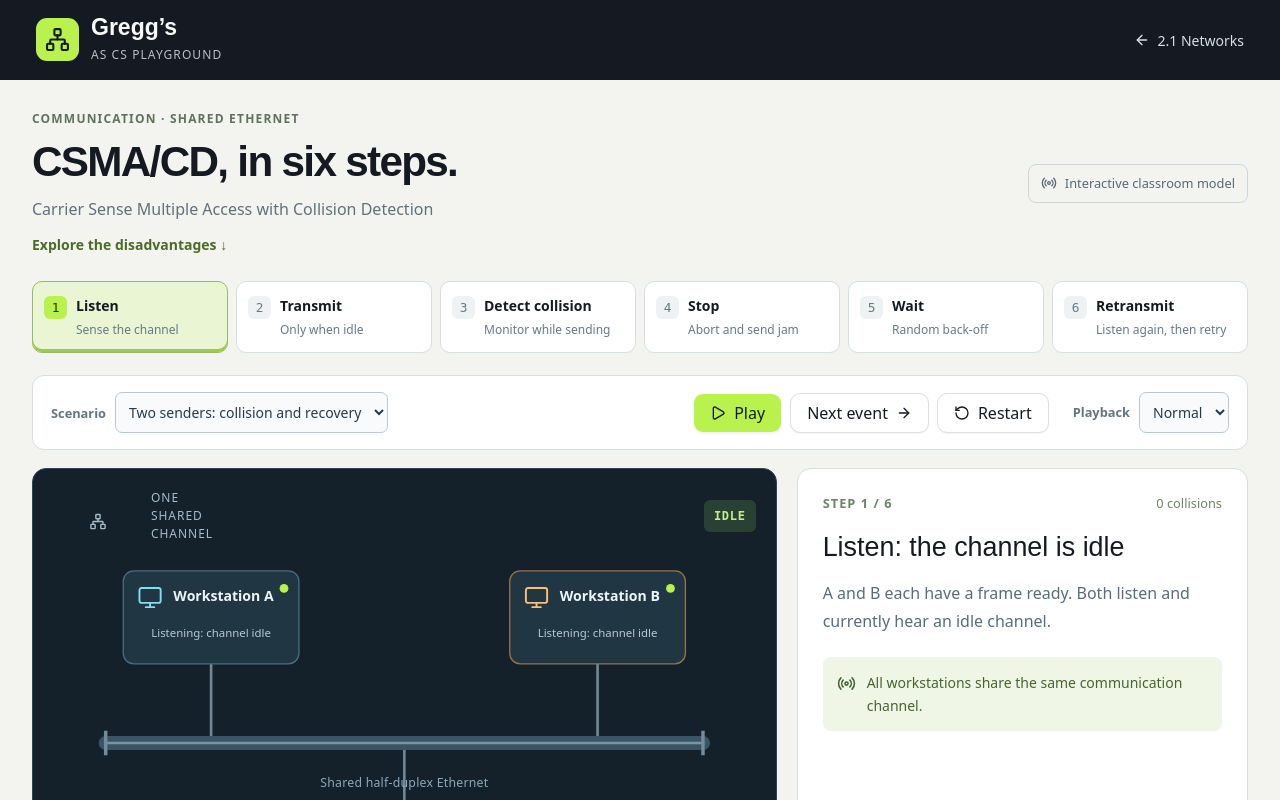
Test: English CSMA/CD classroom demo › blocks transmission while busy and supports the no-collision comparison
Select "Busy channel: listen and wait" in the dropdown labelled "Scenario": (252, 413) [115,392,388,433]
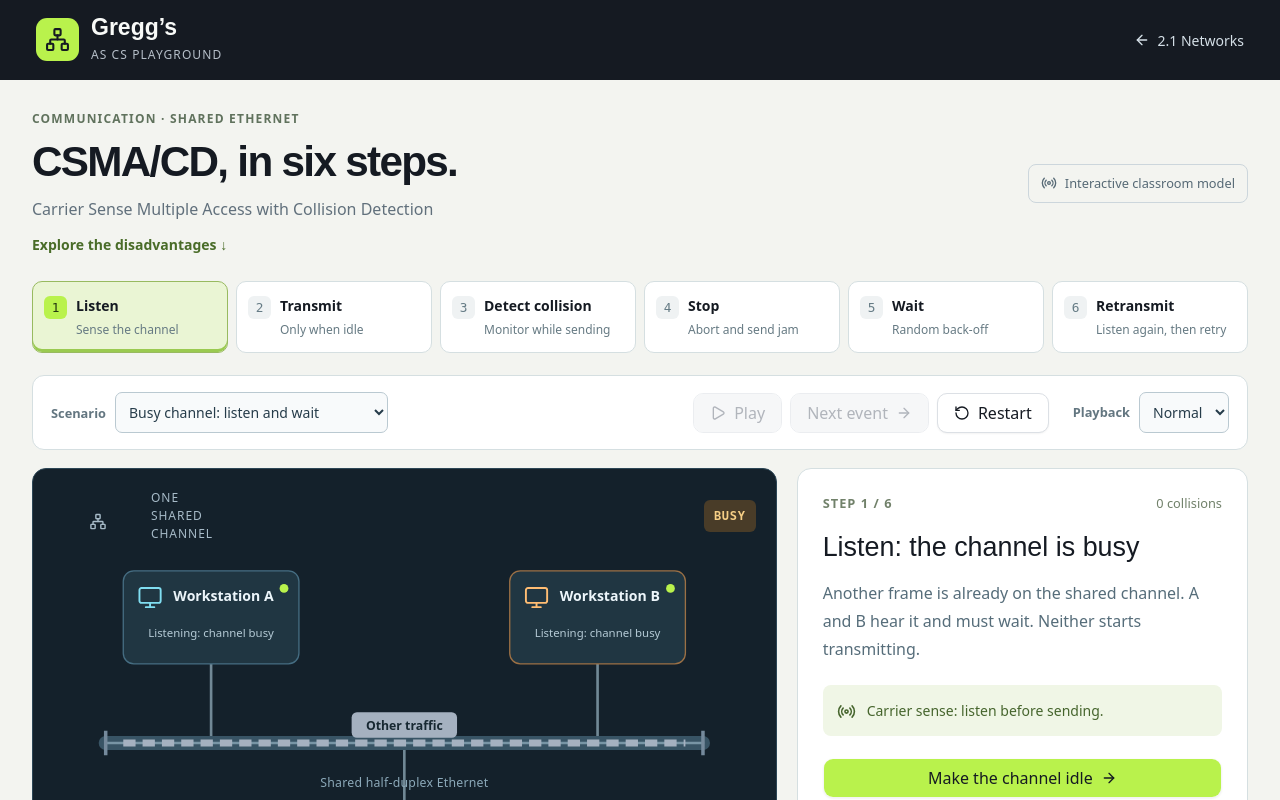
Expected: the button "Next event" is disabled, [790,393,929,433]
Expected: the button "Play" is disabled, [693,393,782,433]
Click the button "Make the channel idle": (1022, 778) [823,758,1222,798]
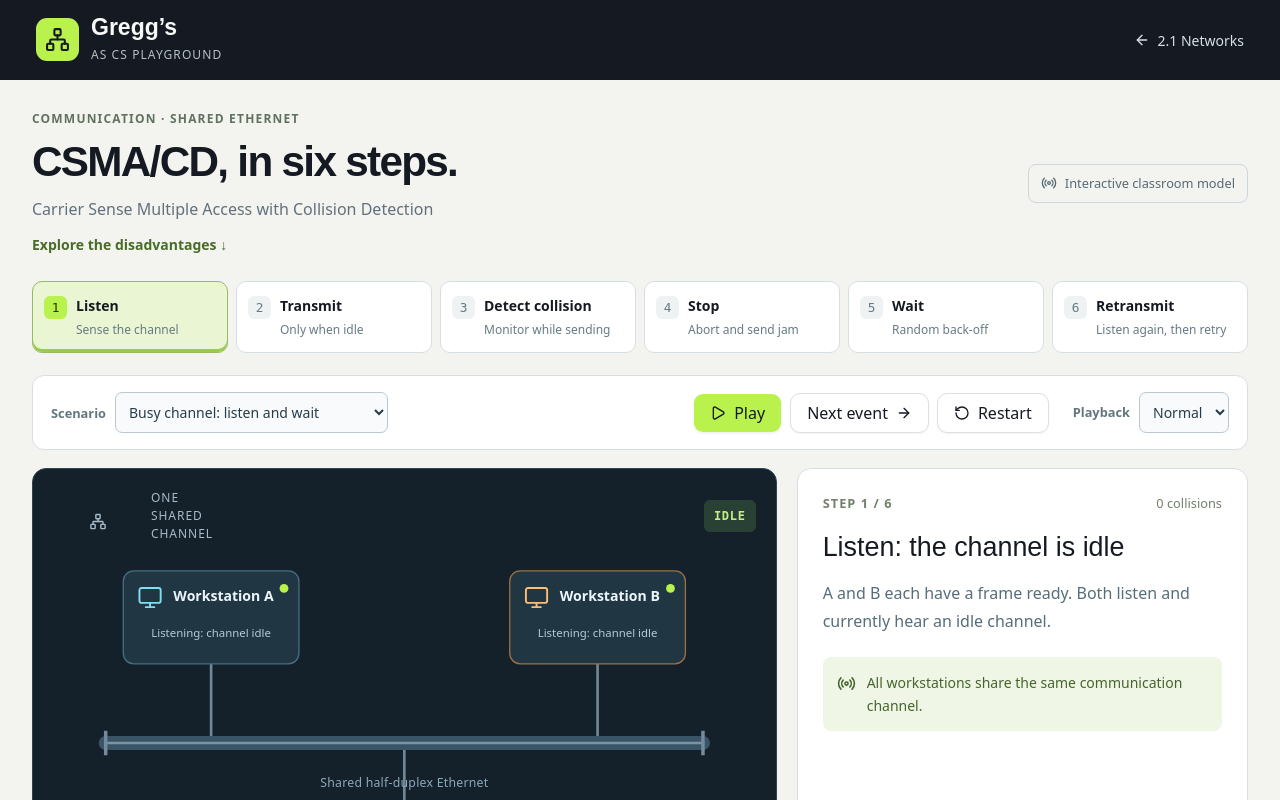
Click the button "Next event": (860, 413) [790,393,929,433]
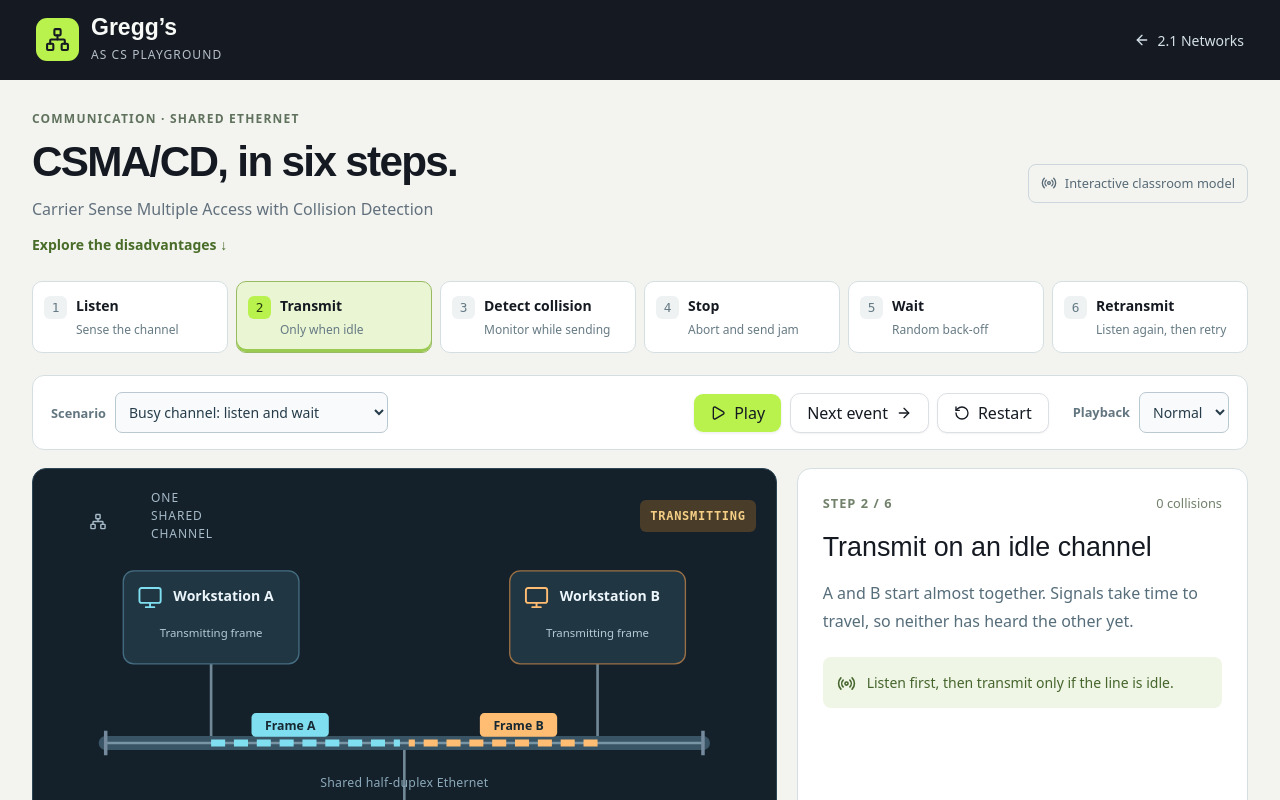
Expected: the heading "Transmit on an idle channel" is shown, [823,532,1152,562]
Select "One sender: no collision" in the dropdown labelled "Scenario": (252, 413) [115,392,388,433]
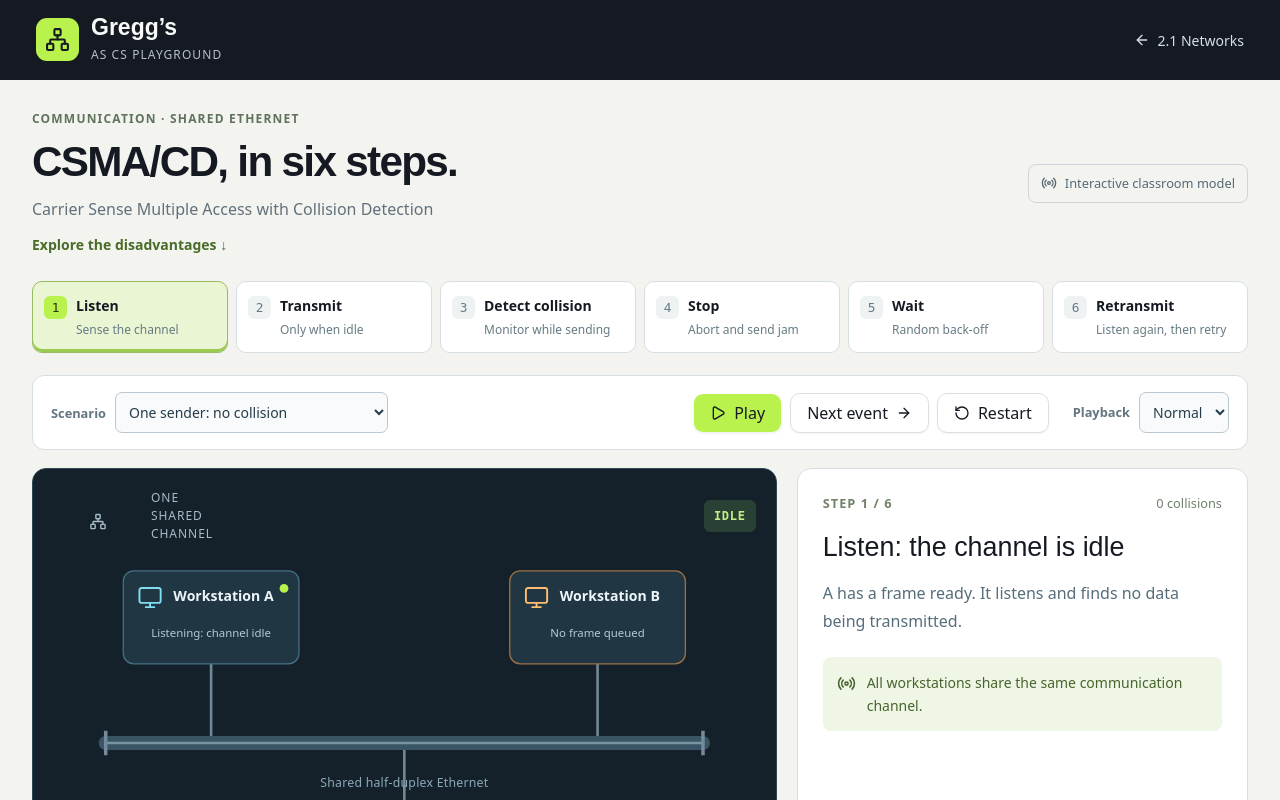
Click the button "Next event": (860, 413) [790,393,929,433]
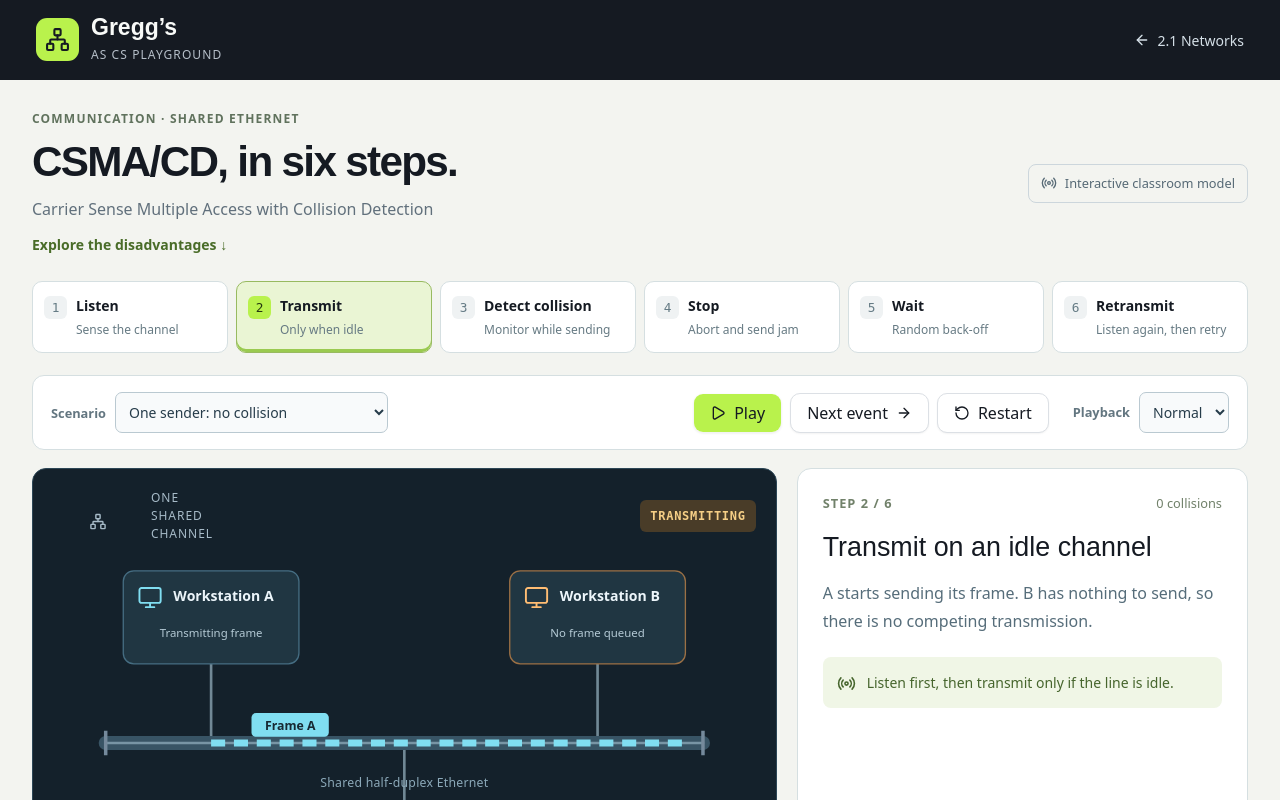
Click the button "Next event": (860, 413) [790,393,929,433]
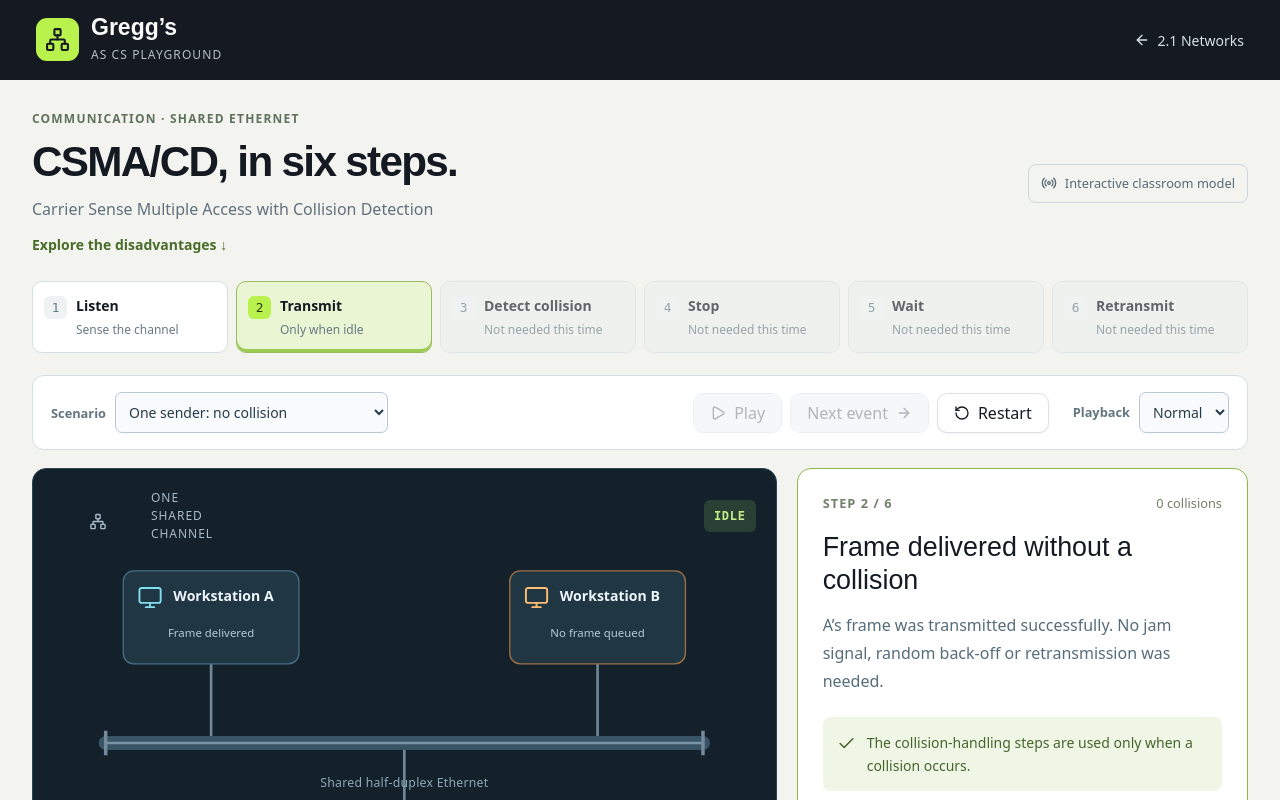
Expected: the text "Not needed this time" is shown 4 times, [484,321,603,338]; [688,321,807,338]; [892,321,1011,338]; [1096,321,1215,338]
Expected: the heading "Frame delivered without a collision" is shown, [823,532,1132,595]
